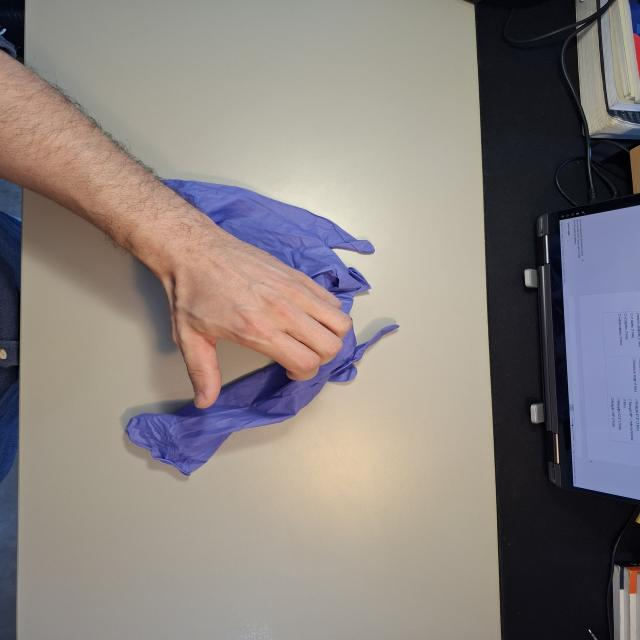glove_off: (150, 220, 356, 409)
